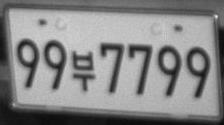7: (99, 41, 125, 94), (128, 43, 153, 95)
9: (156, 43, 182, 97), (185, 45, 211, 98), (15, 37, 40, 88), (42, 39, 67, 90)
부: (71, 49, 96, 92)
